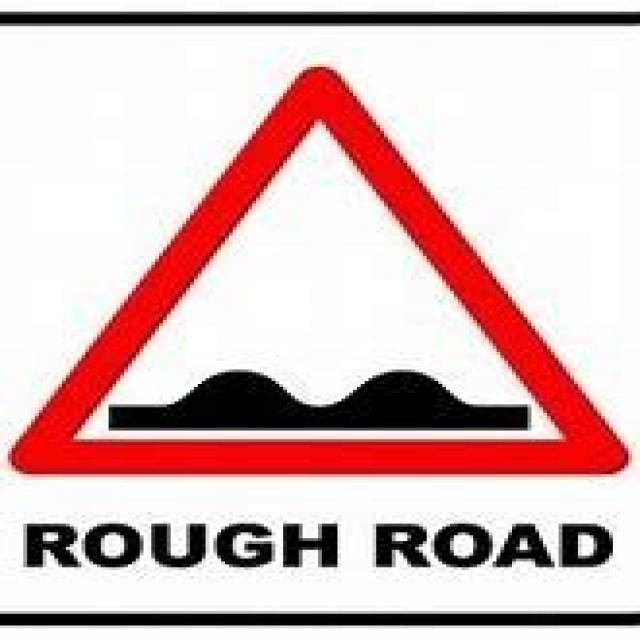HUMP_OR_ROUGH_ROAD: (4, 64, 624, 474)
